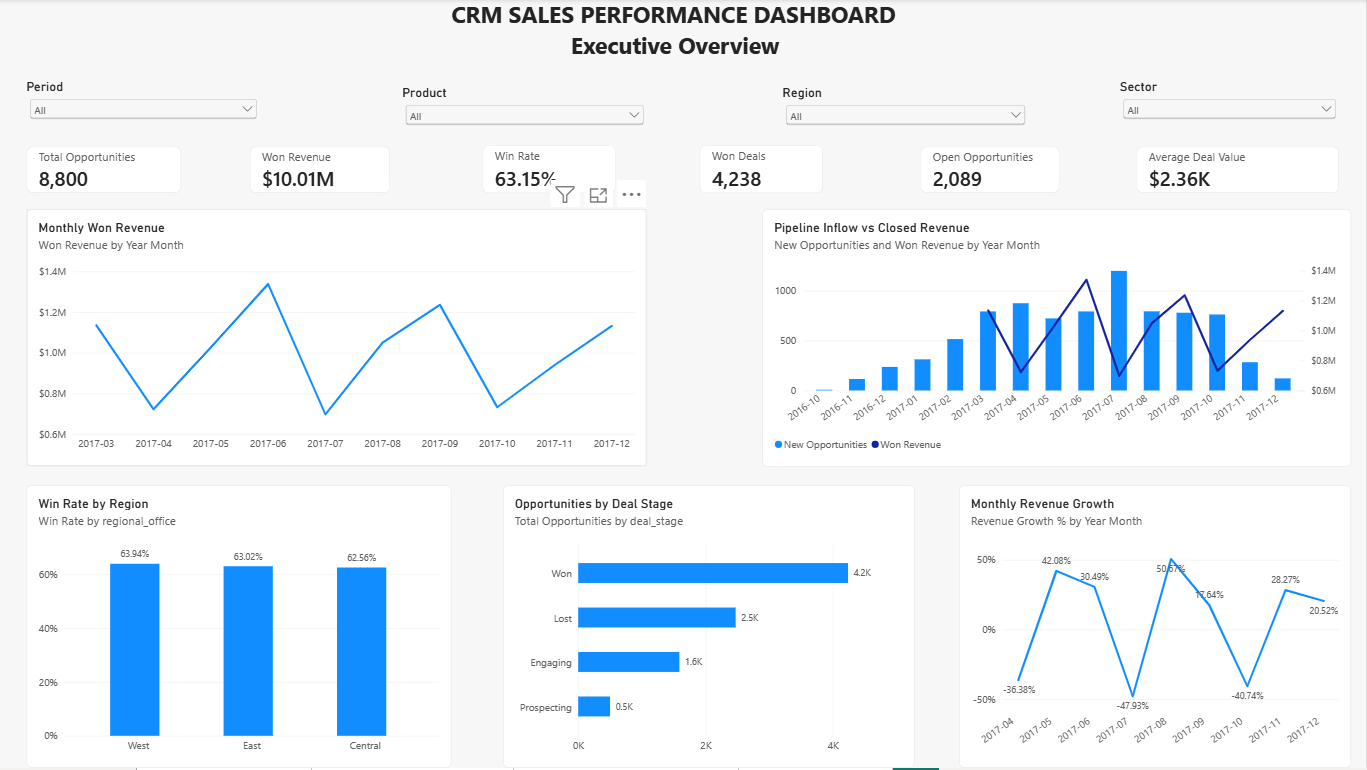

This screenshot's page, from the dashboard's own definition file:
{"tool":"powerbi","page":{"name":"Executive Overview","canvas":[1920,1080],"ordinal":0},"visuals":[{"type":"cardVisual","fields":{"Data":["FactSalesPipeline.Total Opportunities"]},"box":[38.8,207.3,217.5,65.7],"z":0},{"type":"cardVisual","fields":{"Data":["FactSalesPipeline.Won Deals"]},"box":[984.4,205.7,173.6,67.4],"z":1000},{"type":"cardVisual","fields":{"Data":["FactSalesPipeline.Win Rate"]},"box":[679.3,205.7,187.1,67.4],"z":2000},{"type":"cardVisual","fields":{"Data":["FactSalesPipeline.Open Opportunities"]},"box":[1294.6,207.3,195.5,65.7],"z":3000},{"type":"cardVisual","fields":{"Data":["FactSalesPipeline.Won Revenue"]},"box":[352.3,207.3,197.2,65.7],"z":4000},{"type":"cardVisual","fields":{"Data":["FactSalesPipeline.Average Deal Value"]},"box":[1598,207.3,284.9,65.7],"z":5000},{"type":"lineChart","title":"Monthly Won Revenue","fields":{"Category":["DimDate.Year Month"],"Y":["FactSalesPipeline.Won Revenue"]},"box":[39.5,294.5,871.6,361.7],"z":6000},{"type":"slicer","title":"Period","fields":{"Values":["DimDate.Year Month"]},"box":[39.5,112.7,328.1,67.2],"z":7000},{"type":"clusteredColumnChart","title":"Win Rate by Region","fields":{"Category":["DimSalesTeam.regional_office"],"Y":["FactSalesPipeline.Win Rate"]},"box":[38.8,682.7,596.7,397.8],"z":8000},{"type":"clusteredBarChart","title":"Opportunities by Deal Stage","fields":{"Category":["FactSalesPipeline.deal_stage"],"Y":["FactSalesPipeline.Total Opportunities"]},"box":[708,682.2,578.2,397.8],"z":9000},{"type":"lineClusteredColumnComboChart","title":"Pipeline Inflow vs Closed Revenue","fields":{"Category":["DimDate.Year Month"],"Y":["FactSalesPipeline.New Opportunities"],"Y2":["FactSalesPipeline.Won Revenue"]},"box":[1072.1,295,827.7,362.4],"z":10000},{"type":"lineChart","title":"Monthly Revenue Growth","fields":{"Category":["DimDate.Year Month"],"Y":["FactSalesPipeline.Revenue Growth %"]},"box":[1348.6,682.7,551.2,397.8],"z":11000},{"type":"slicer","title":"Product","fields":{"Values":["DimProduct.product"]},"box":[566.4,121.4,343.9,59],"z":12000},{"type":"slicer","title":"Region","fields":{"Values":["DimSalesTeam.regional_office"]},"box":[1100.8,121.4,345.6,67.4],"z":13000},{"type":"slicer","title":"Sector","fields":{"Values":["DimAccount.sector"]},"box":[1574.4,112.9,308.3,67.2],"z":14000},{"type":"textbox","box":[635.5,0,868.1,89.3],"z":15000}]}

Visuals, with their boxes in screenshot pixels (x1, y1, x2, y2), scaled from the page's 1920x1080 canvas onto the 1367x770 screenshot:
cardVisual - FactSalesPipeline.Total Opportunities: [x1=28, y1=148, x2=182, y2=195]
cardVisual - FactSalesPipeline.Won Deals: [x1=701, y1=147, x2=824, y2=195]
cardVisual - FactSalesPipeline.Win Rate: [x1=484, y1=147, x2=617, y2=195]
cardVisual - FactSalesPipeline.Open Opportunities: [x1=922, y1=148, x2=1061, y2=195]
cardVisual - FactSalesPipeline.Won Revenue: [x1=251, y1=148, x2=391, y2=195]
cardVisual - FactSalesPipeline.Average Deal Value: [x1=1138, y1=148, x2=1341, y2=195]
"Monthly Won Revenue" lineChart: [x1=28, y1=210, x2=649, y2=468]
"Period" slicer: [x1=28, y1=80, x2=262, y2=128]
"Win Rate by Region" clusteredColumnChart: [x1=28, y1=487, x2=452, y2=769]
"Opportunities by Deal Stage" clusteredBarChart: [x1=504, y1=486, x2=916, y2=769]
"Pipeline Inflow vs Closed Revenue" lineClusteredColumnComboChart: [x1=763, y1=210, x2=1353, y2=469]
"Monthly Revenue Growth" lineChart: [x1=960, y1=487, x2=1353, y2=769]
"Product" slicer: [x1=403, y1=87, x2=648, y2=129]
"Region" slicer: [x1=784, y1=87, x2=1030, y2=135]
"Sector" slicer: [x1=1121, y1=80, x2=1340, y2=128]
textbox: [x1=452, y1=0, x2=1071, y2=64]
